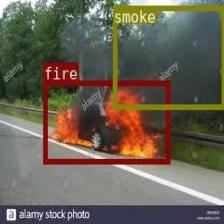fire: (43, 80, 169, 163)
smoke: (112, 4, 224, 108)
